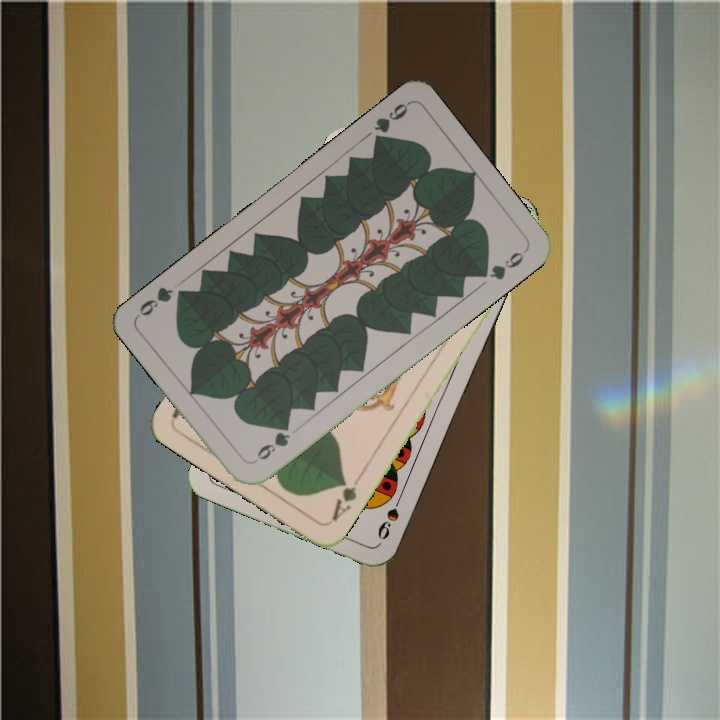G9: (369, 98, 412, 149), (249, 419, 293, 466)
GA: (327, 476, 360, 525)
S9: (373, 488, 406, 543)
